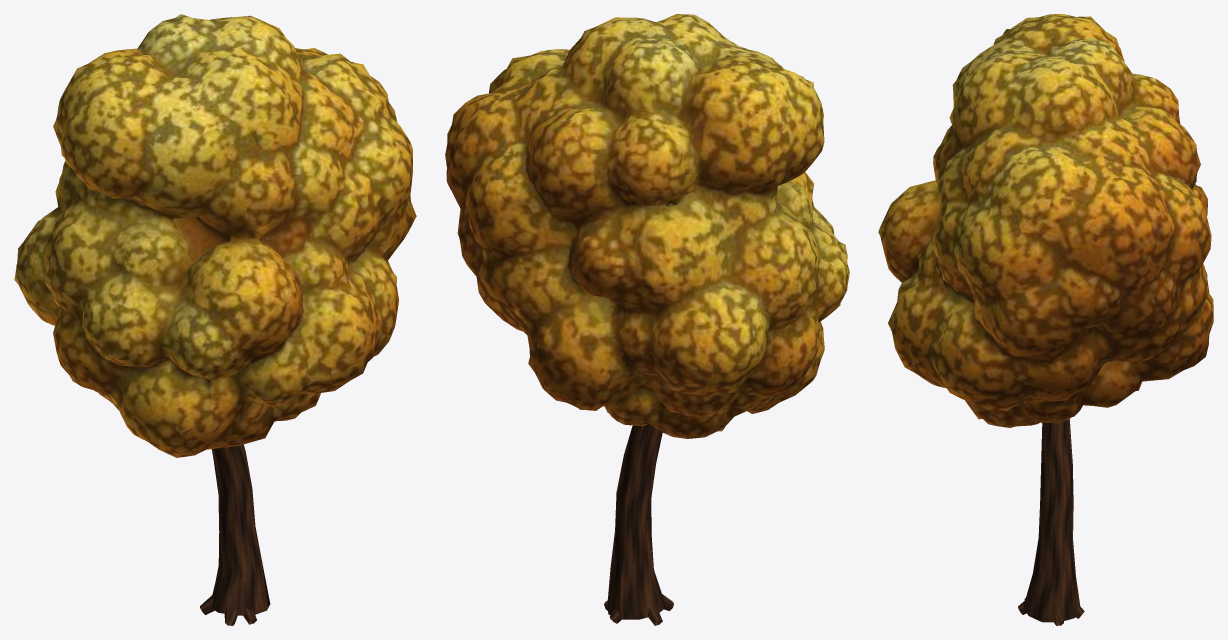
Rendered from tree_maple_amber_lod1.glb.
3 views of the same model, side by side, from view 1: azimuth 30°, elevation 25°; view 2: azimuth 150°, elevation 25°; view 3: azimuth 270°, elevation 25° (orthographic). The views are drawn at different scales.
Visible parts, largest first — view 1: tree_maple_amber_crown1, trunk.001; view 2: tree_maple_amber_crown1, trunk.001; view 3: tree_maple_amber_crown1, trunk.001.
Part boxes in pixels (x1=…): tree_maple_amber_crown1: x1=14, y1=14, x2=416, y2=457; trunk.001: x1=200, y1=444, x2=270, y2=625; tree_maple_amber_crown1: x1=445, y1=14, x2=849, y2=438; trunk.001: x1=604, y1=424, x2=673, y2=625; tree_maple_amber_crown1: x1=878, y1=14, x2=1213, y2=427; trunk.001: x1=1018, y1=419, x2=1084, y2=625.
Size of the model in its own units: 2.23 by 3.69 by 2.02.
2 materials, 2 textured.
